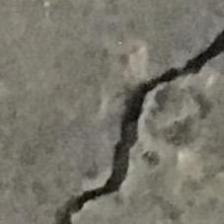Crack: (35, 29, 224, 223)
